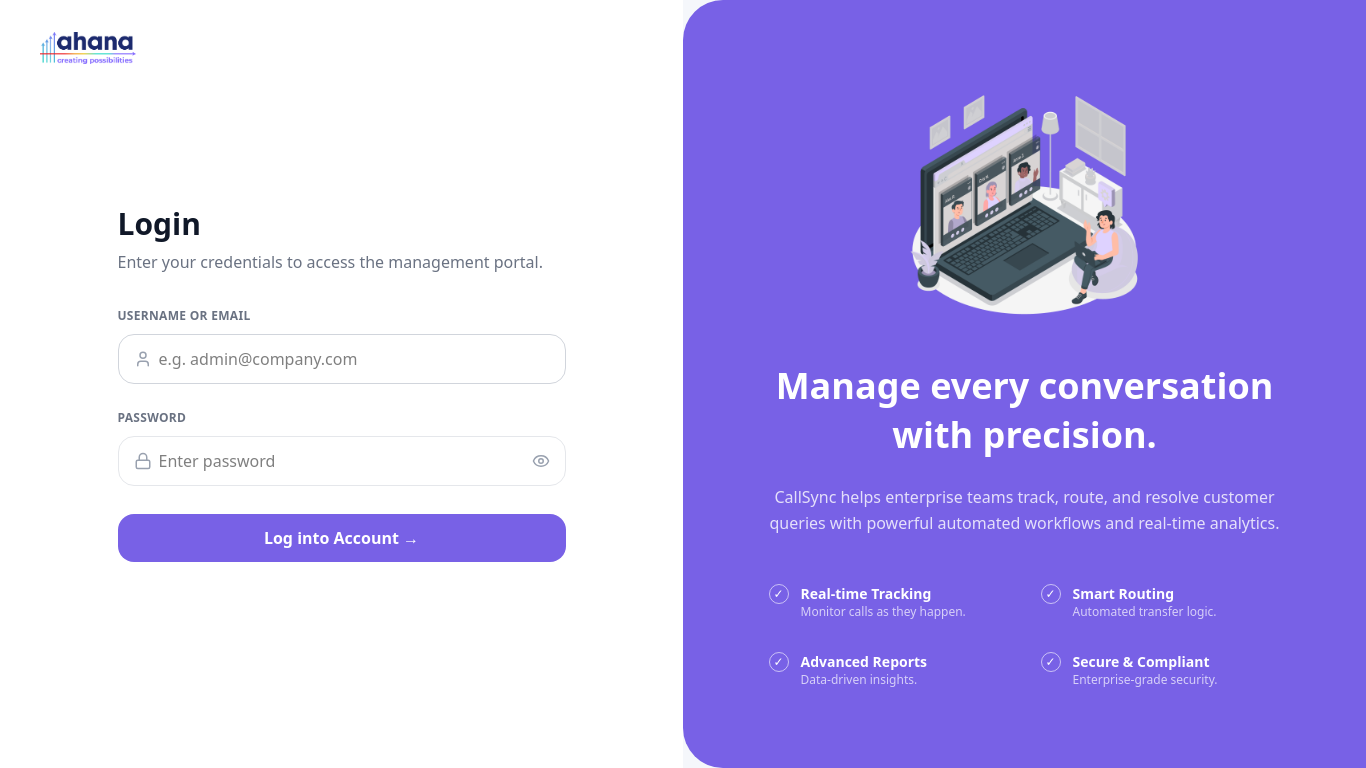
Scenario: Login Page › shows error for invalid login
Type "wrong@test.com" into the field with placeholder "e.g. admin@company.com" at (342, 359), box x1=118 y1=334 x2=566 y2=384
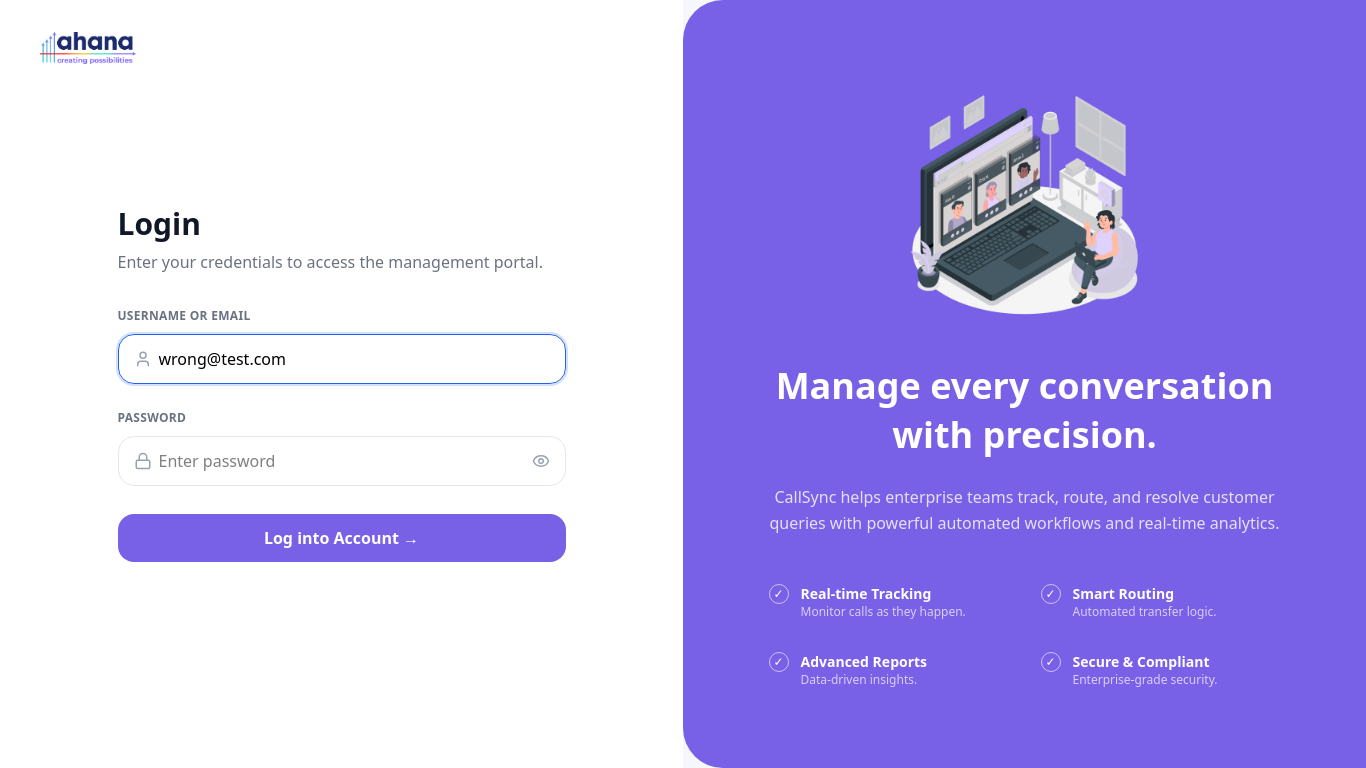
Type "wrongpass" into the password field with placeholder "Enter password" at (342, 461), box x1=118 y1=436 x2=566 y2=486
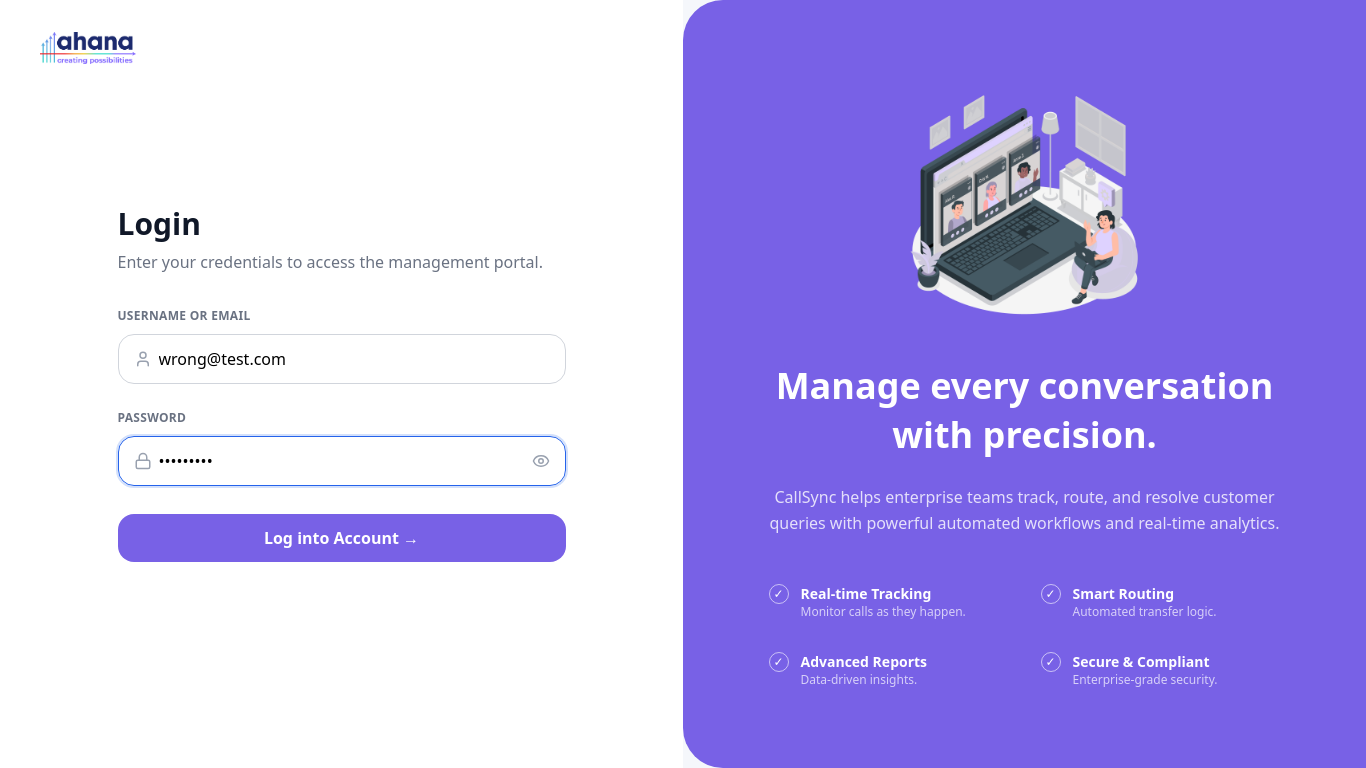
Click the button "Log into Account →" at (342, 538), box x1=118 y1=514 x2=566 y2=562
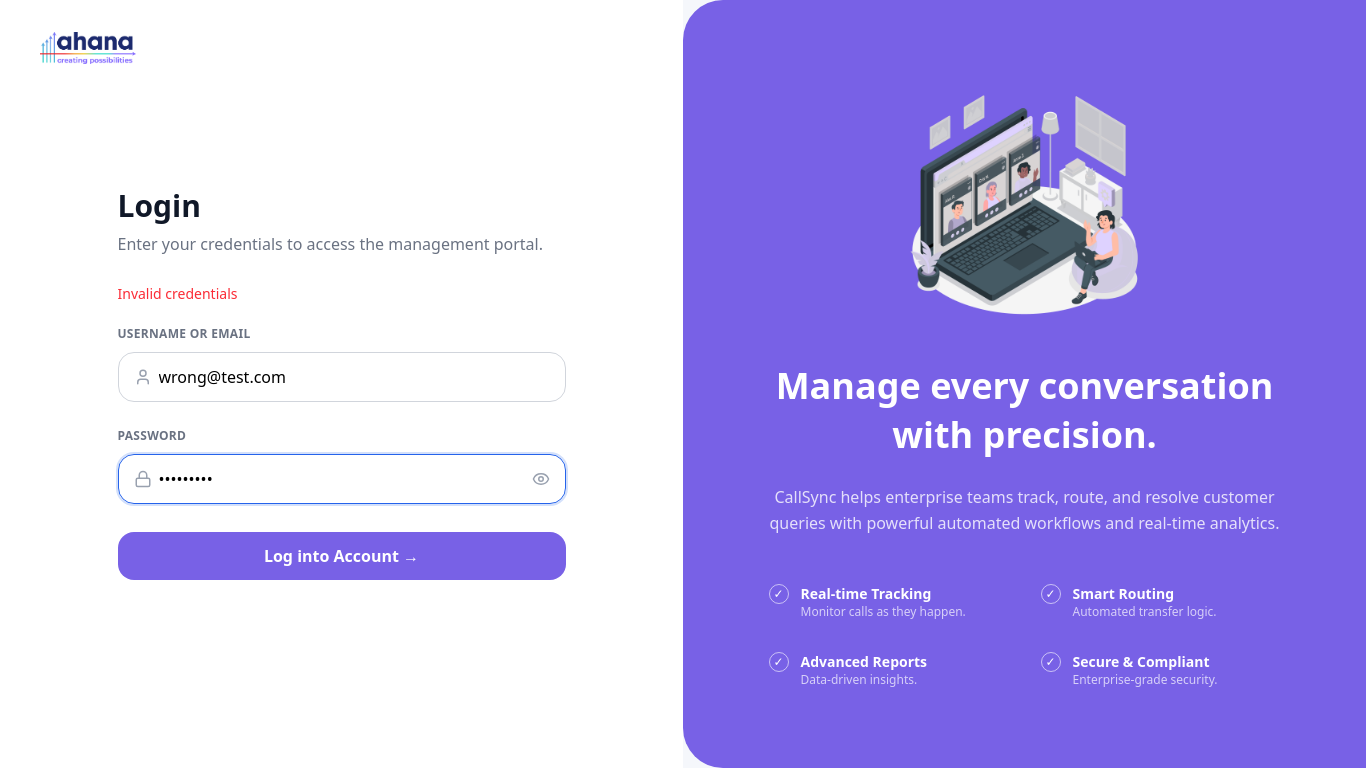
expect the text "Invalid credentials" is shown: met, box x1=118 y1=284 x2=238 y2=303
